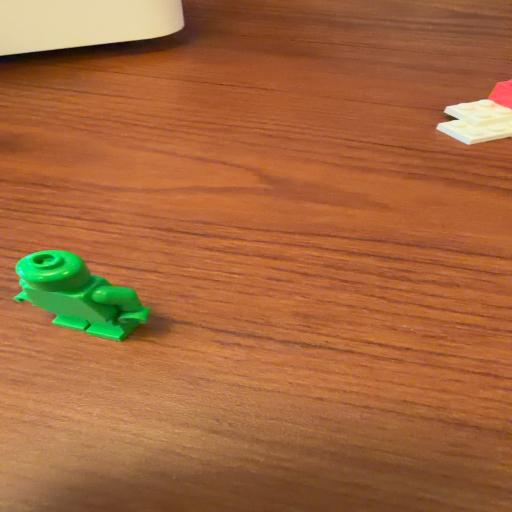UnoQ-minifig-detector: (14, 250, 151, 342)
